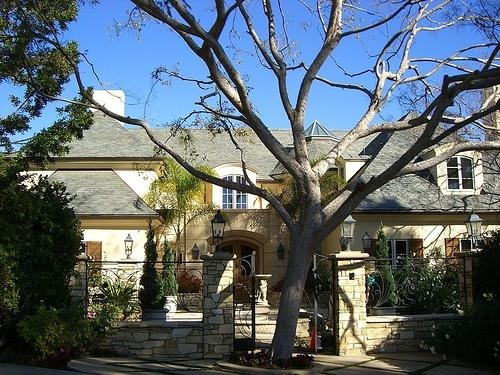pottedplant: (139, 218, 167, 320), (370, 223, 397, 316), (160, 233, 180, 315)
